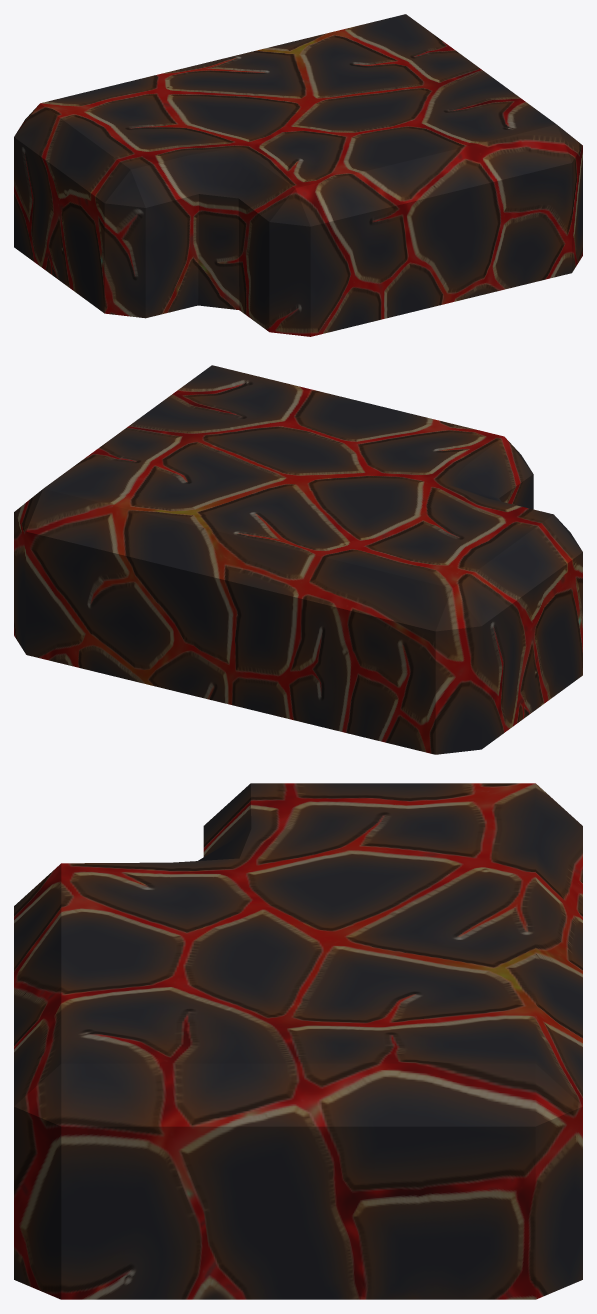
The model's file is IslandSmall.fbx.
3 views of the same model, one above another, from view 1: azimuth 30°, elevation 25°; view 2: azimuth 150°, elevation 25°; view 3: azimuth 270°, elevation 25° (orthographic). The views are drawn at different scales.
Parts seen in each view (by area): view 1: Small_Island1; view 2: Small_Island1; view 3: Small_Island1.
Part boxes in pixels (x1,y1,x2,y2): Small_Island1: [14, 14, 582, 336]; Small_Island1: [14, 365, 582, 754]; Small_Island1: [14, 783, 582, 1299].
Size of the model in its own units: 417 by 131 by 313.
